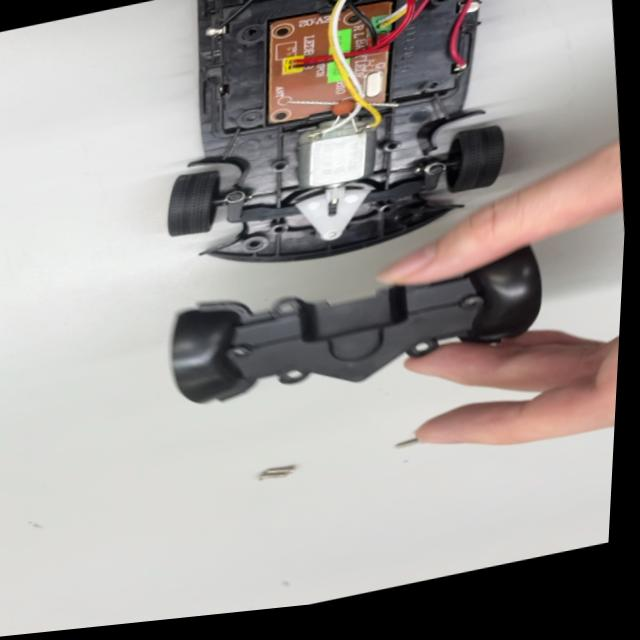motor: (297, 114, 398, 209)
motor_cover: (160, 225, 561, 425)
